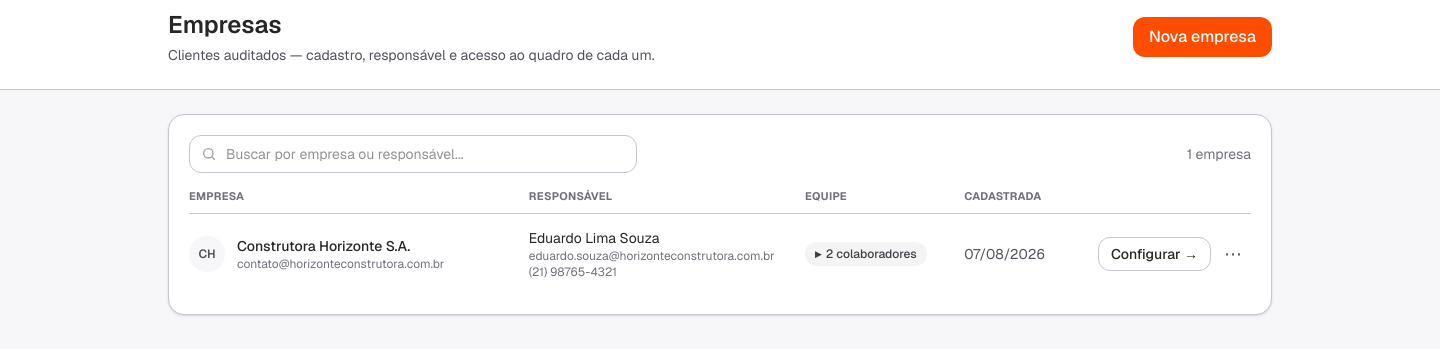
EmpresasClient › mantém os colaboradores na página, recolhidos até o clique
Expected: the text "patricia.almeida@horizonteconstrutora.com.br" is not shown
Click the heading "▶ 2 colaboradores" at point(866, 254), box [805, 242, 927, 266]
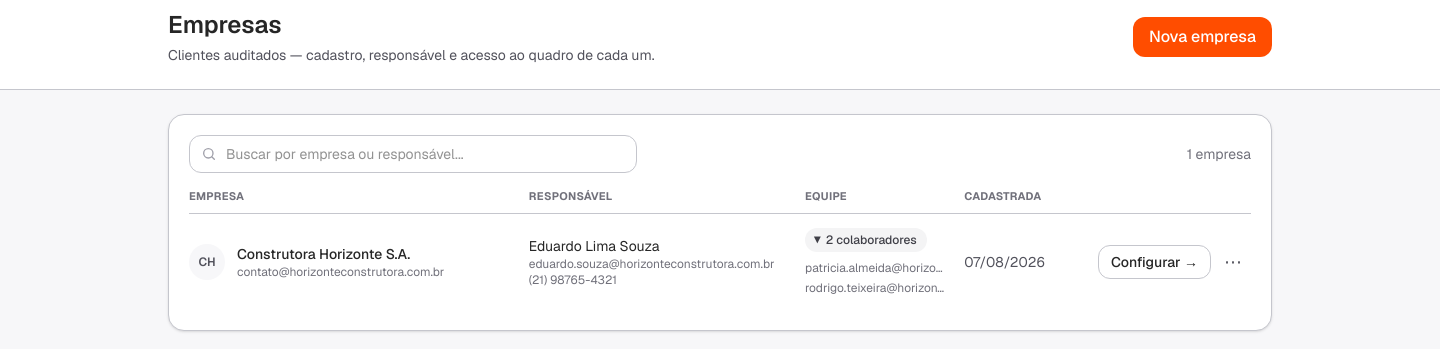
Expected: the list item "patricia.almeida@horizonteconstrutora.com.br" is shown, [805, 260, 948, 276]
